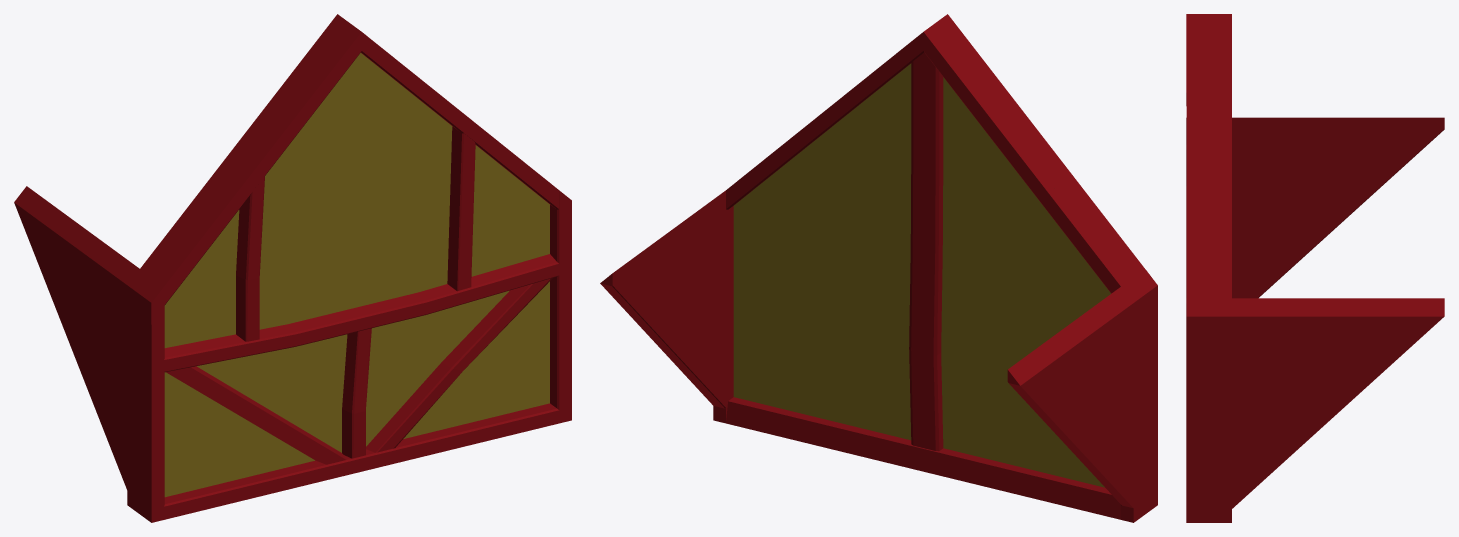
The model's file is SM_MH_01_Plaster_Wall_Skylight_01.fbx.
The picture shows the model from 3 angles, left to right: view 1: azimuth 30°, elevation 25°; view 2: azimuth 150°, elevation 25°; view 3: azimuth 270°, elevation 25°; orthographic projection. The views are drawn at different scales.
Visible parts, largest first — view 1: SM_MH_01_Plaster_Wall_Skylight_01_LOD0; view 2: SM_MH_01_Plaster_Wall_Skylight_01_LOD0; view 3: SM_MH_01_Plaster_Wall_Skylight_01_LOD0.
Boxes of the visible parts, bbox=[...] form: SM_MH_01_Plaster_Wall_Skylight_01_LOD0: bbox=[14, 14, 571, 522]; SM_MH_01_Plaster_Wall_Skylight_01_LOD0: bbox=[600, 14, 1157, 522]; SM_MH_01_Plaster_Wall_Skylight_01_LOD0: bbox=[1186, 14, 1444, 522].
Size of what is drawn, in the model's own units: 300 by 300 by 170.
